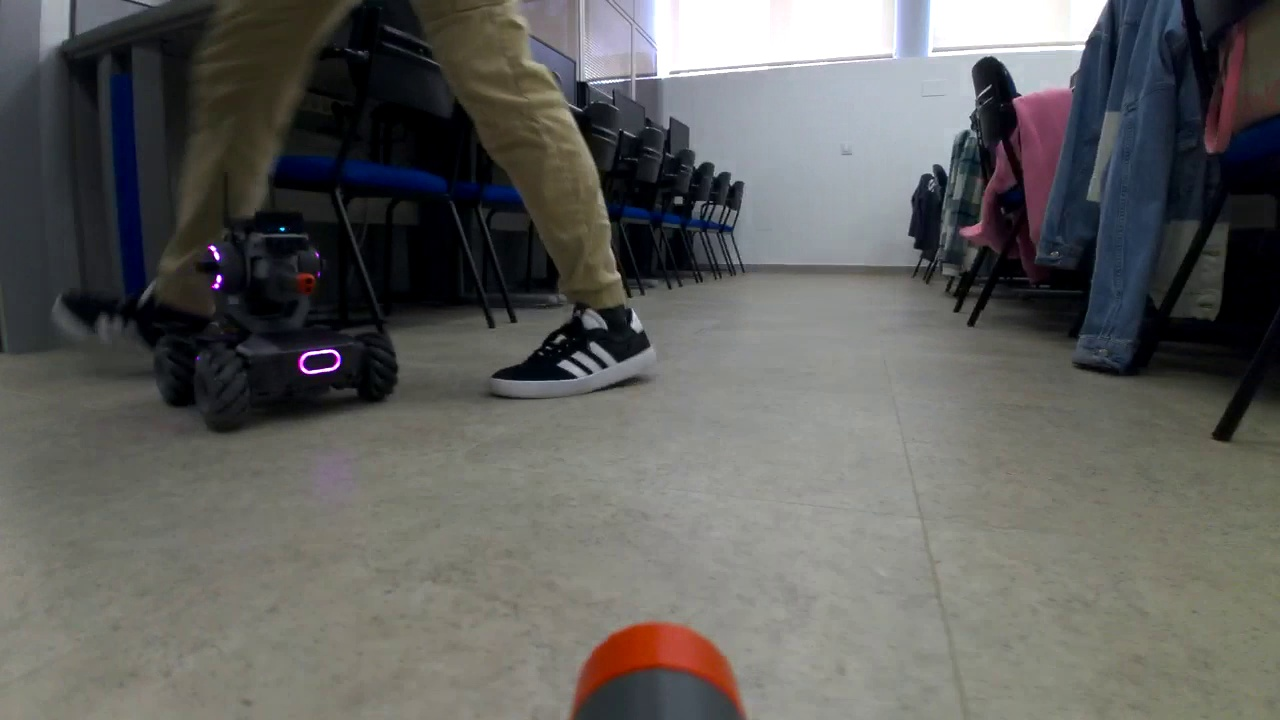robot: (148, 206, 398, 431)
